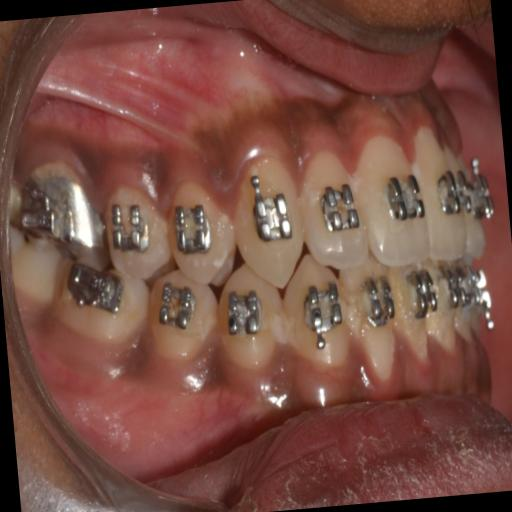correct_brace: (163, 176, 238, 294), (382, 162, 428, 238), (251, 179, 294, 245), (432, 164, 476, 226), (320, 178, 361, 242)
incorrect_brace: (295, 142, 370, 274), (171, 194, 217, 264)
